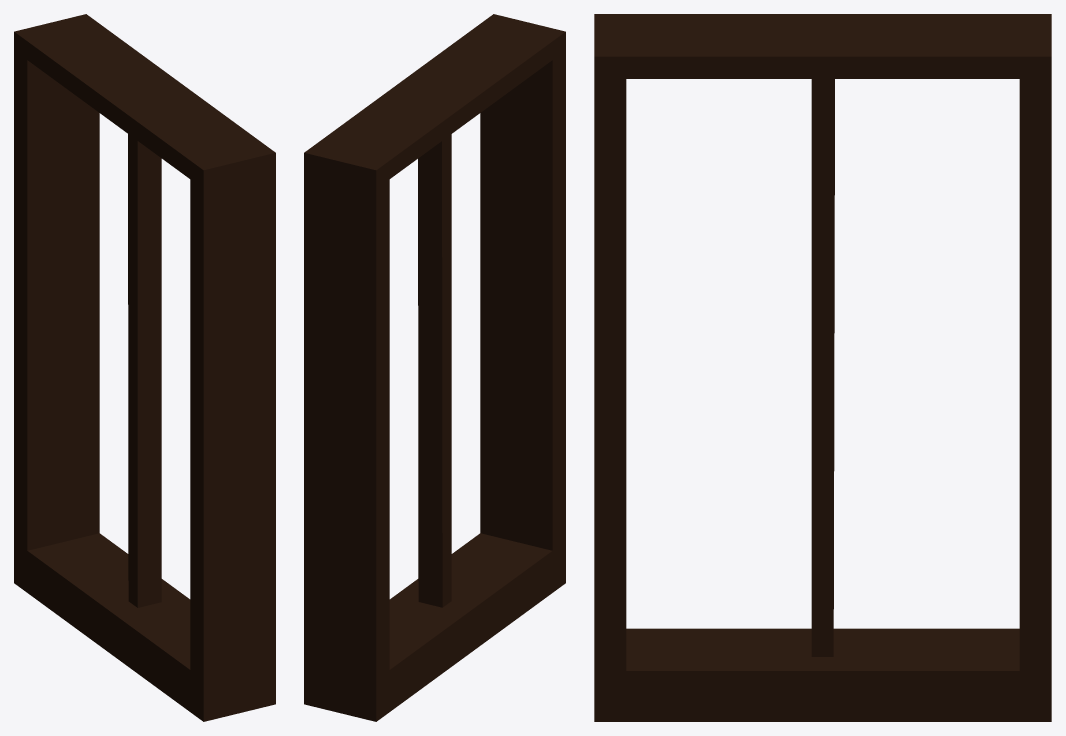
File: raam.fbx
The picture shows the model from 3 angles, left to right: view 1: azimuth 30°, elevation 25°; view 2: azimuth 150°, elevation 25°; view 3: azimuth 270°, elevation 25°; orthographic projection. The views are drawn at different scales.
Parts seen in each view (by area): view 1: Window Frame; view 2: Window Frame; view 3: Window Frame.
Part boxes in pixels (bbox=[...]): Window Frame: bbox=[14, 14, 275, 721]; Window Frame: bbox=[304, 14, 565, 721]; Window Frame: bbox=[594, 14, 1051, 721].
Size of the model in its own units: 16.97 by 124 by 77.17.
